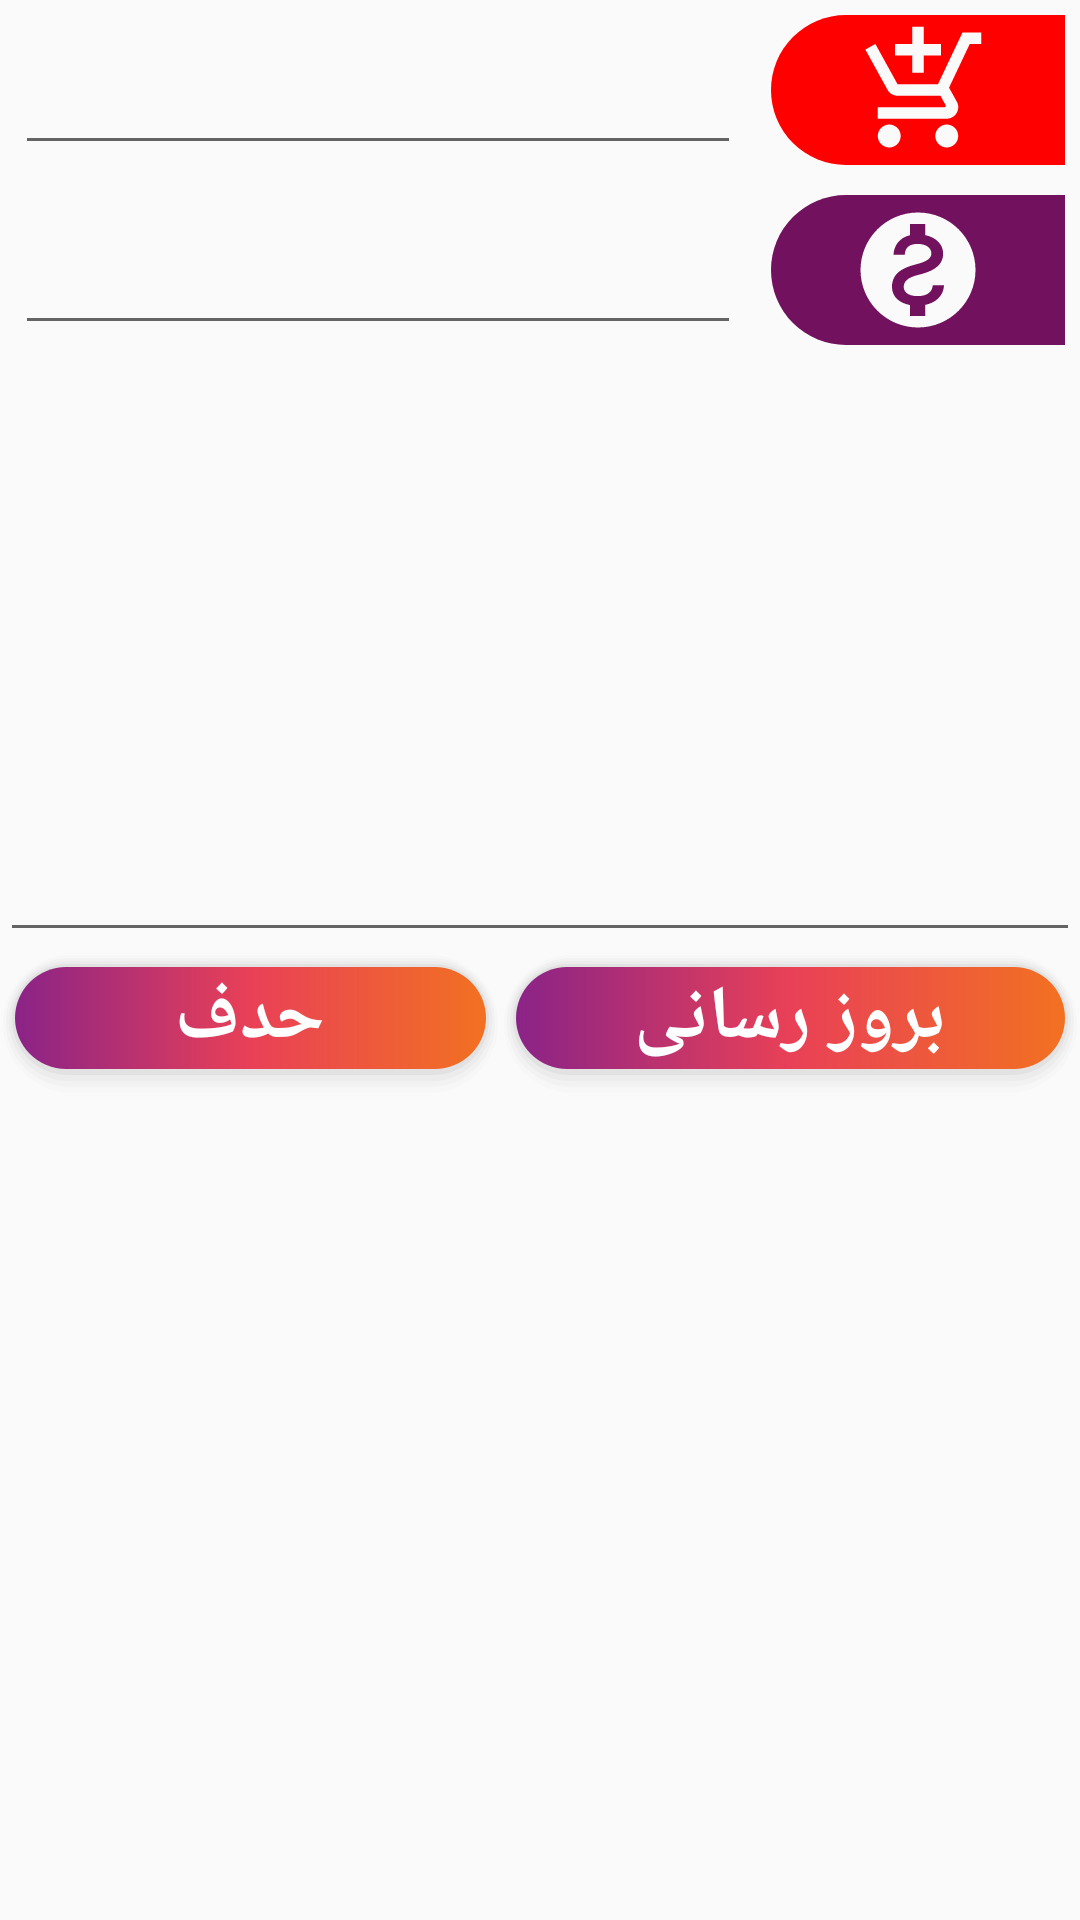

Point at icon controls on the screen. Image size 1080 × 1920, points as (x,y).
monetization on: (918,270)
shop: (918,90)
